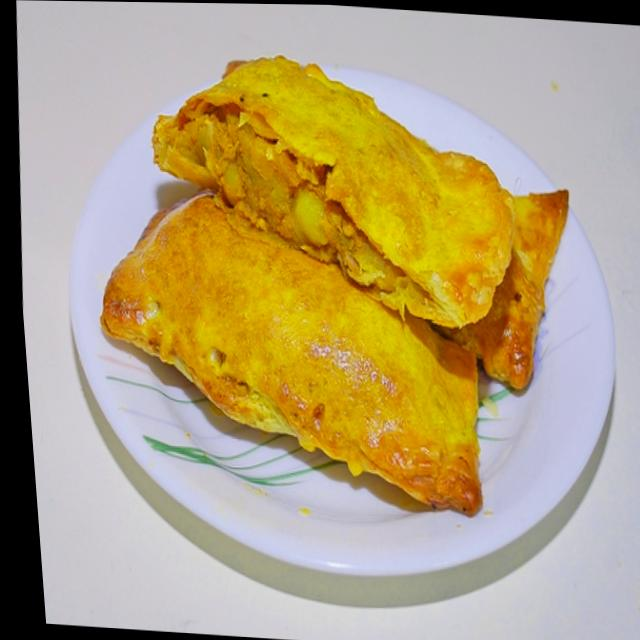炸货点心: (49, 21, 629, 593)
